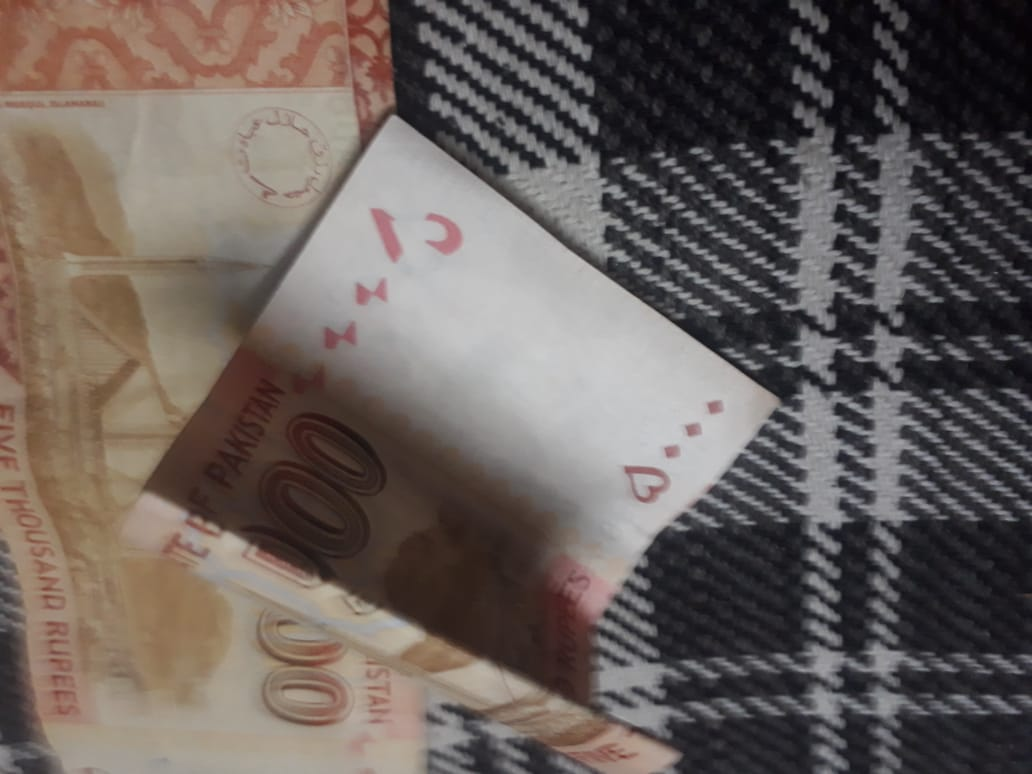5000 rupee: (99, 112, 817, 726)
